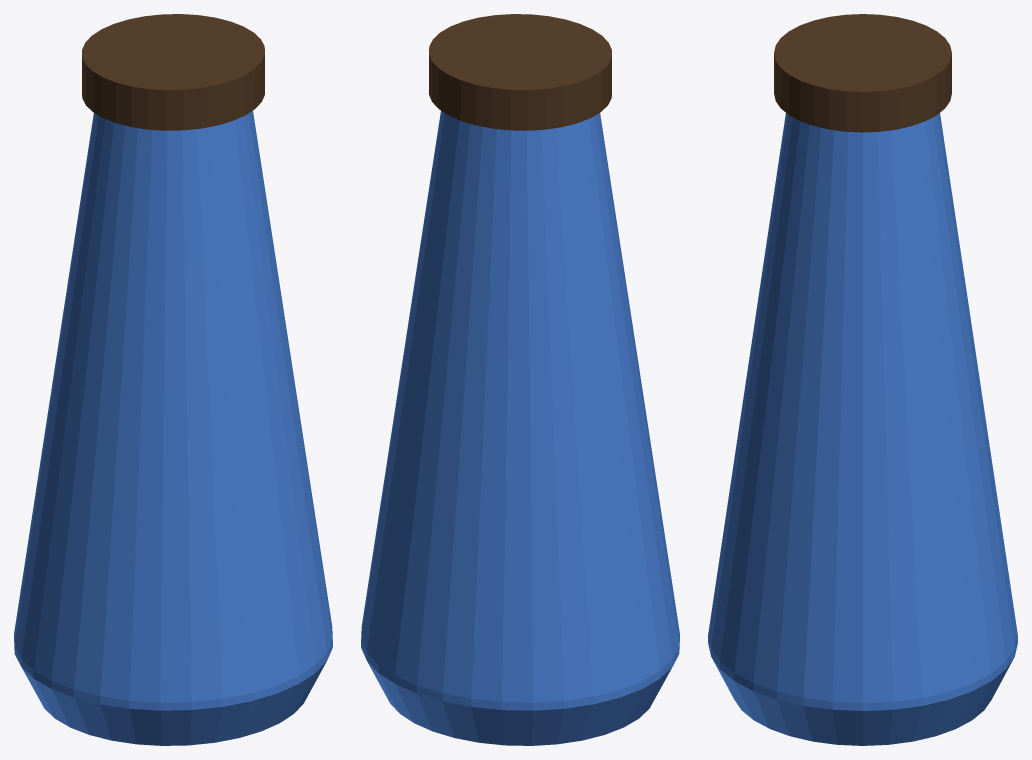
The model's file is Arsenic.fbx.
3 views of the same model, side by side, from view 1: azimuth 30°, elevation 25°; view 2: azimuth 150°, elevation 25°; view 3: azimuth 270°, elevation 25° (orthographic).
Parts seen in each view (by area): view 1: Cylinder; view 2: Cylinder; view 3: Cylinder.
Boxes of the visible parts, bbox=[...] form: Cylinder: bbox=[14, 14, 332, 745]; Cylinder: bbox=[361, 14, 679, 745]; Cylinder: bbox=[708, 14, 1017, 745].
Size of the model in its own units: 97.79 by 213 by 94.26.
